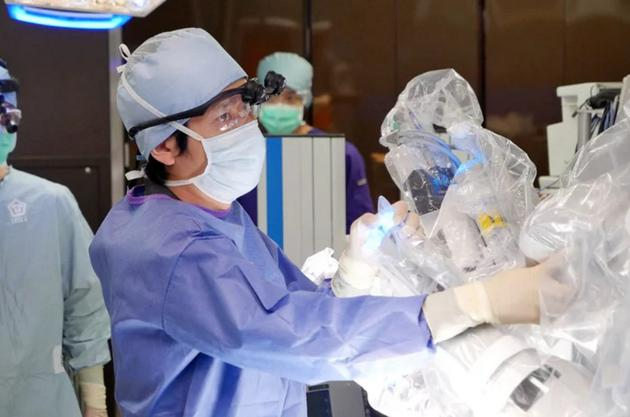mask: (195, 129, 268, 205)
